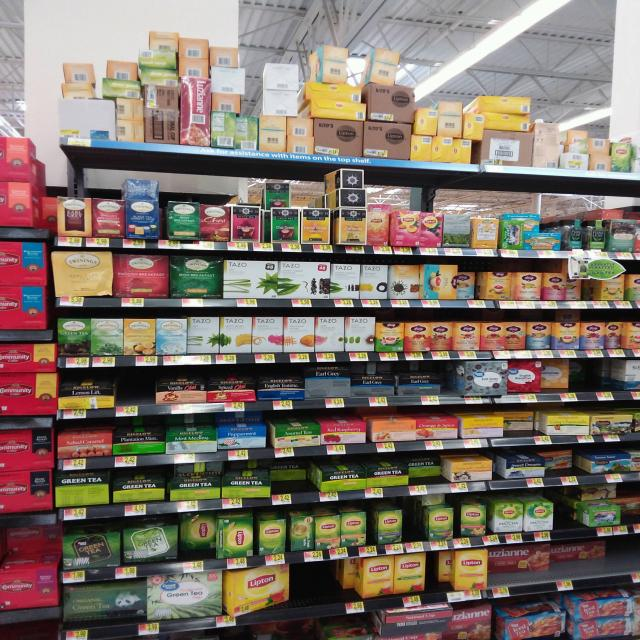void: (294, 563, 339, 617), (120, 370, 152, 415), (612, 539, 640, 584), (575, 362, 608, 400), (341, 557, 360, 620), (405, 504, 425, 554), (554, 493, 574, 538), (446, 360, 464, 405), (612, 360, 626, 399)
